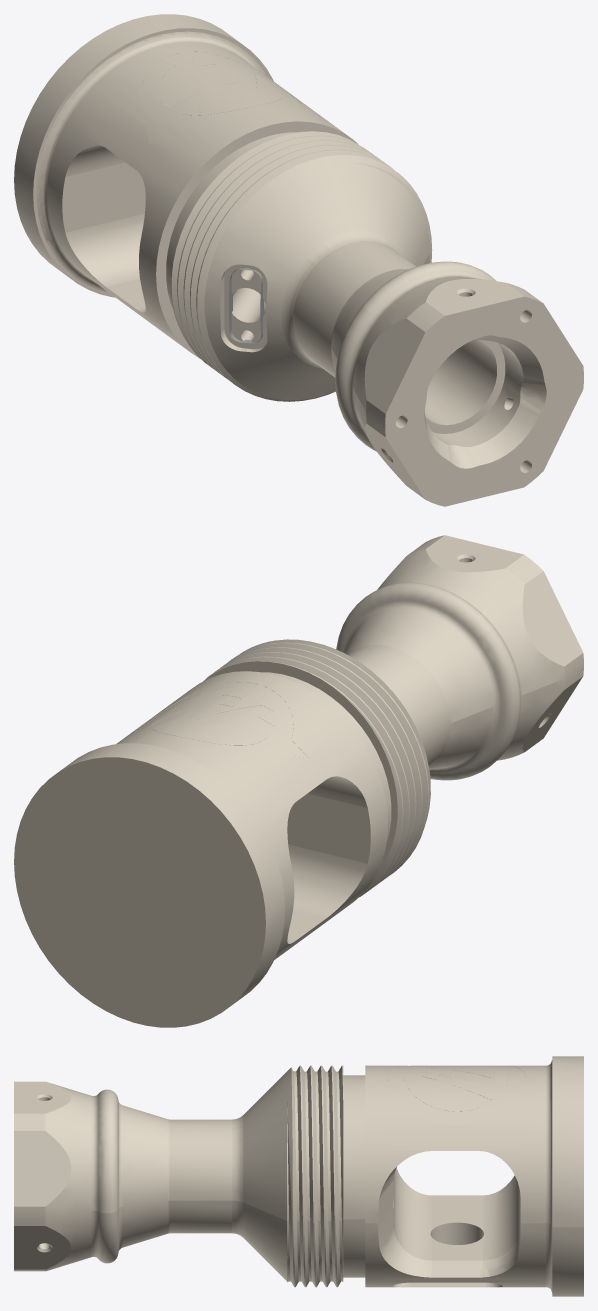
File: vmt_test_cut.glb
The picture shows the model from 3 angles, top to bottom: view 1: azimuth 30°, elevation 25°; view 2: azimuth 150°, elevation 25°; view 3: azimuth 270°, elevation 25°; orthographic projection. The views are drawn at different scales.
Visible parts, largest first — view 1: empty_3; view 2: empty_3; view 3: empty_3.
Part boxes in pixels (x1,y1,x2,y2): empty_3: (14,14,583,506); empty_3: (14,535,583,1027); empty_3: (14,1056,583,1296).
Bounding box in the file's own units: 48.26 × 48.19 × 114.
